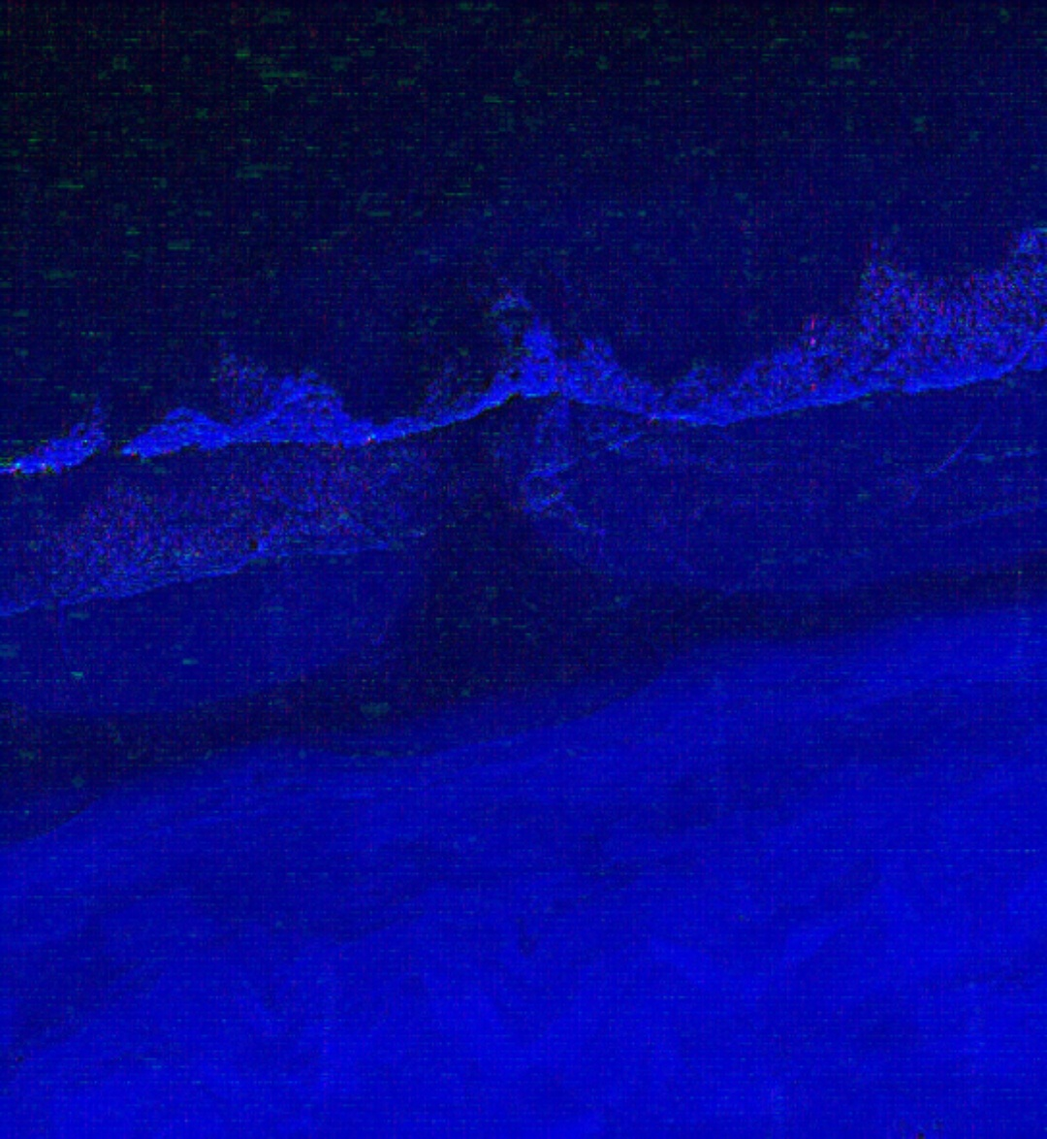rip_current: (326, 222, 583, 602)
